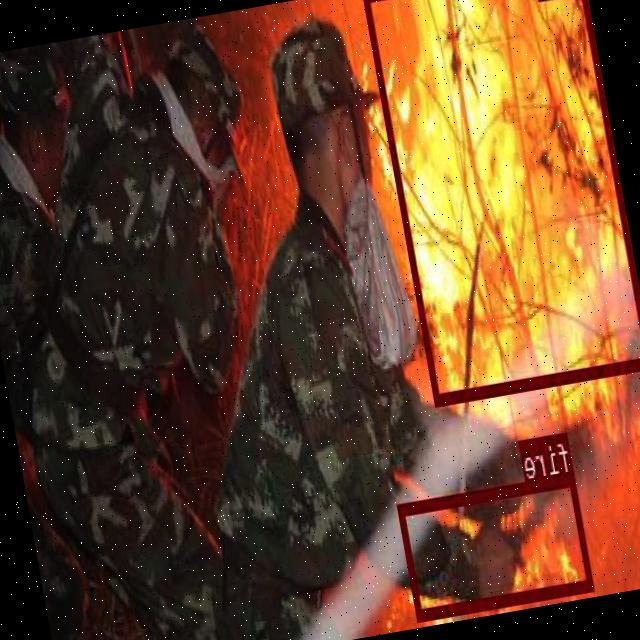fire: (362, 0, 640, 404), (398, 472, 595, 618)
